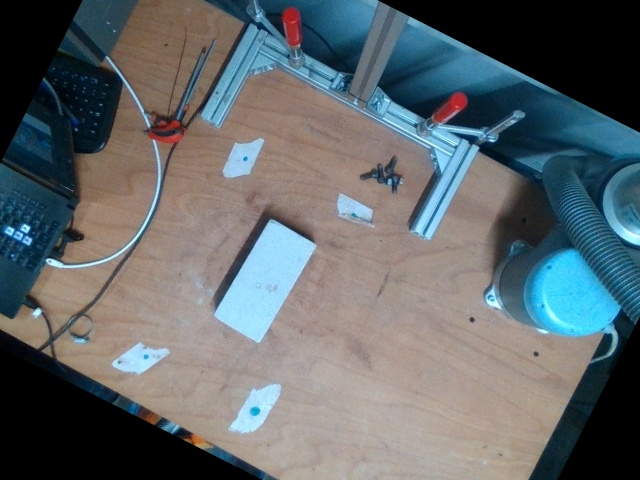brick: (212, 218, 315, 341)
